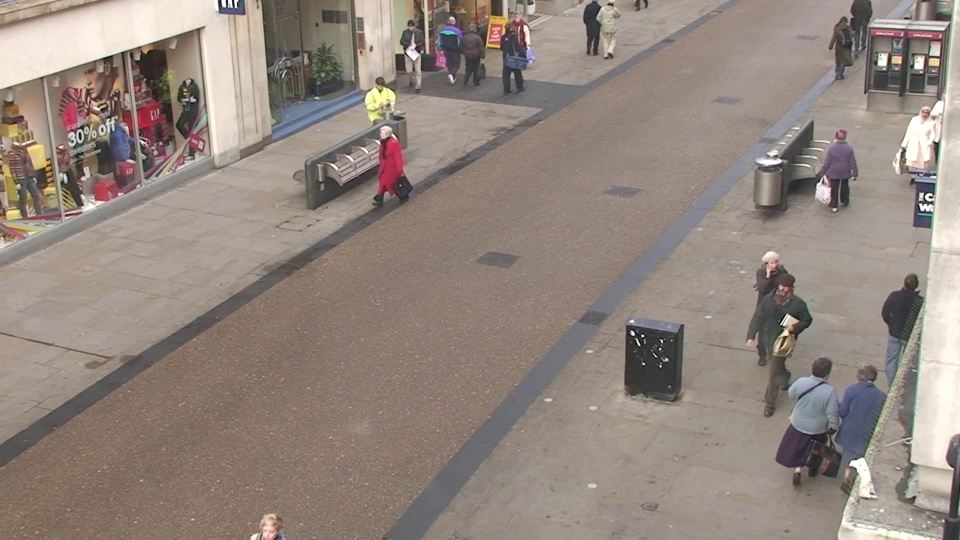pedestrian: (831, 351, 892, 513), (787, 348, 845, 506), (877, 266, 934, 403), (757, 269, 806, 405), (745, 246, 792, 377), (899, 102, 944, 198), (818, 124, 858, 223), (370, 121, 405, 218), (240, 498, 311, 540), (366, 74, 397, 158), (825, 12, 856, 84), (459, 21, 484, 91), (494, 23, 519, 93), (400, 18, 425, 86), (439, 13, 464, 80), (507, 10, 530, 76)
